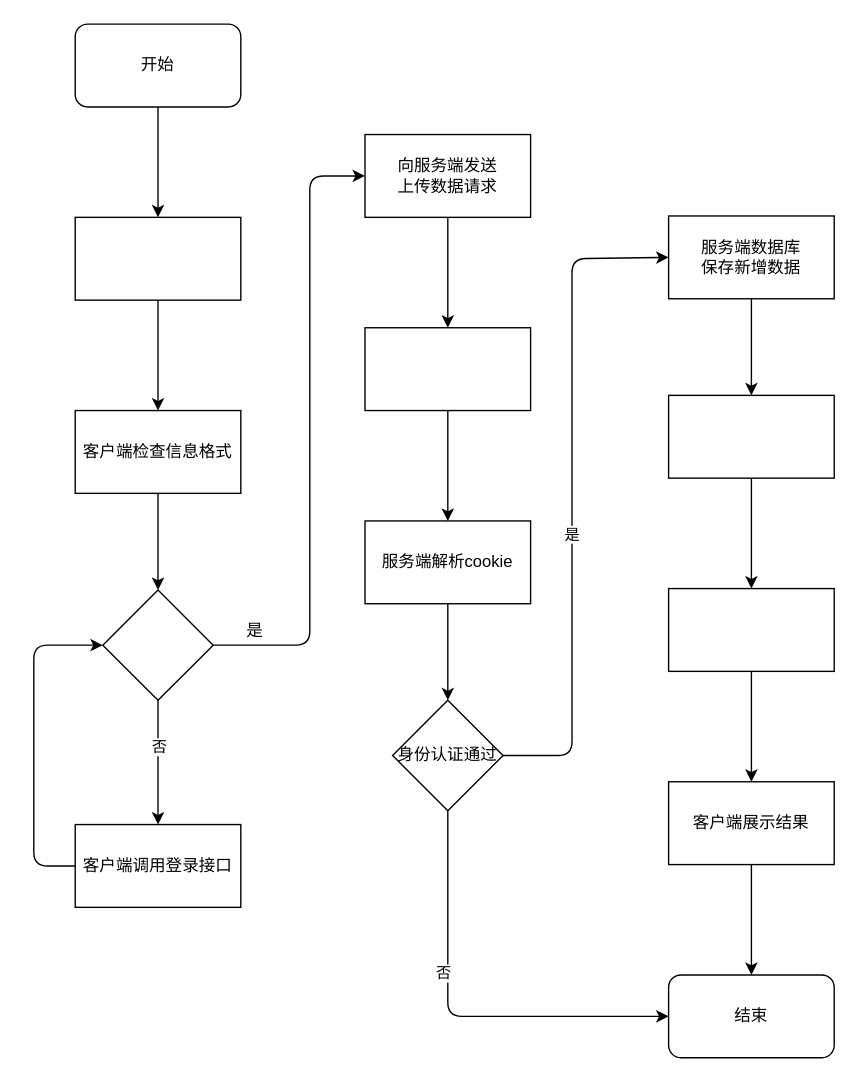
Image size: 858x1082. Some labels were removed from this diagram. The centre of each missing label's shape, as x and y in pixels:
客户端从本地 读取新增数据: (x=157, y=258)
客户端解析响应: (x=750, y=629)
服务端处理 并返回响应: (x=750, y=436)
服务端解析数据: (x=447, y=368)
用户已经登录: (x=157, y=644)
